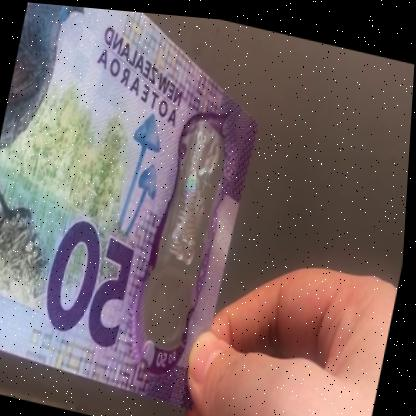50B: (148, 119, 228, 328)
